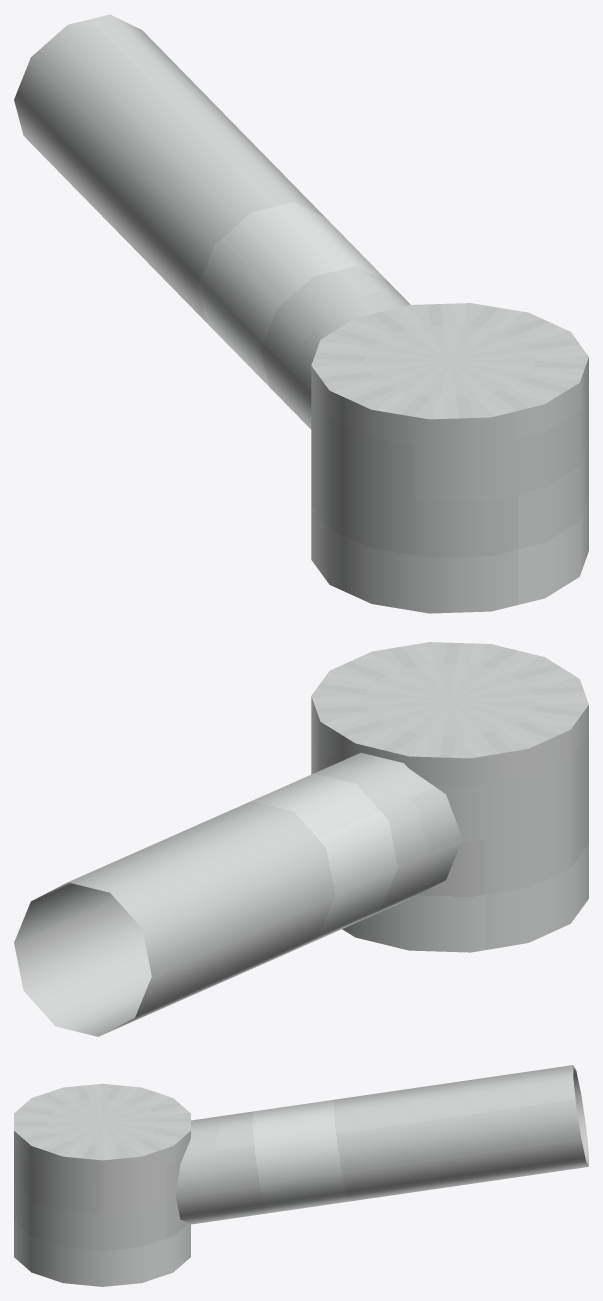
File: trusssignalarm_sloped12_c0_thin.obj
3 renders of one model, top to bottom at view 1: azimuth 30°, elevation 25°; view 2: azimuth 150°, elevation 25°; view 3: azimuth 270°, elevation 25°, orthographic. The views are drawn at different scales.
Visible parts, largest first — view 1: trusssignalarm_sloped12_c0_thin; view 2: trusssignalarm_sloped12_c0_thin; view 3: trusssignalarm_sloped12_c0_thin.
Boxes of the visible parts, x1,y1,x2,y2 form: trusssignalarm_sloped12_c0_thin: (14,14,588,613); trusssignalarm_sloped12_c0_thin: (14,642,588,1036); trusssignalarm_sloped12_c0_thin: (14,1065,588,1286).
Size of the model in its own units: 0.5688 by 0.6114 by 1.8.
